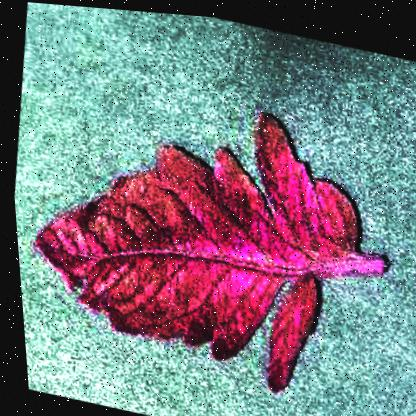Virus: (3, 55, 410, 407)
